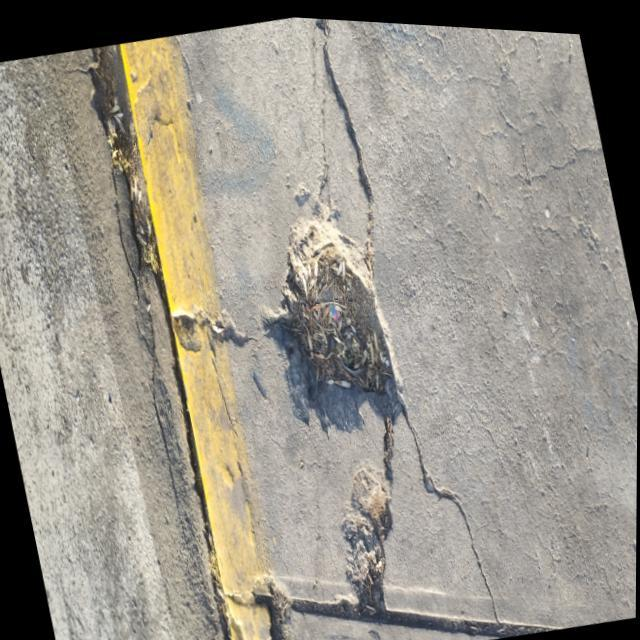hole: (266, 220, 411, 430)
